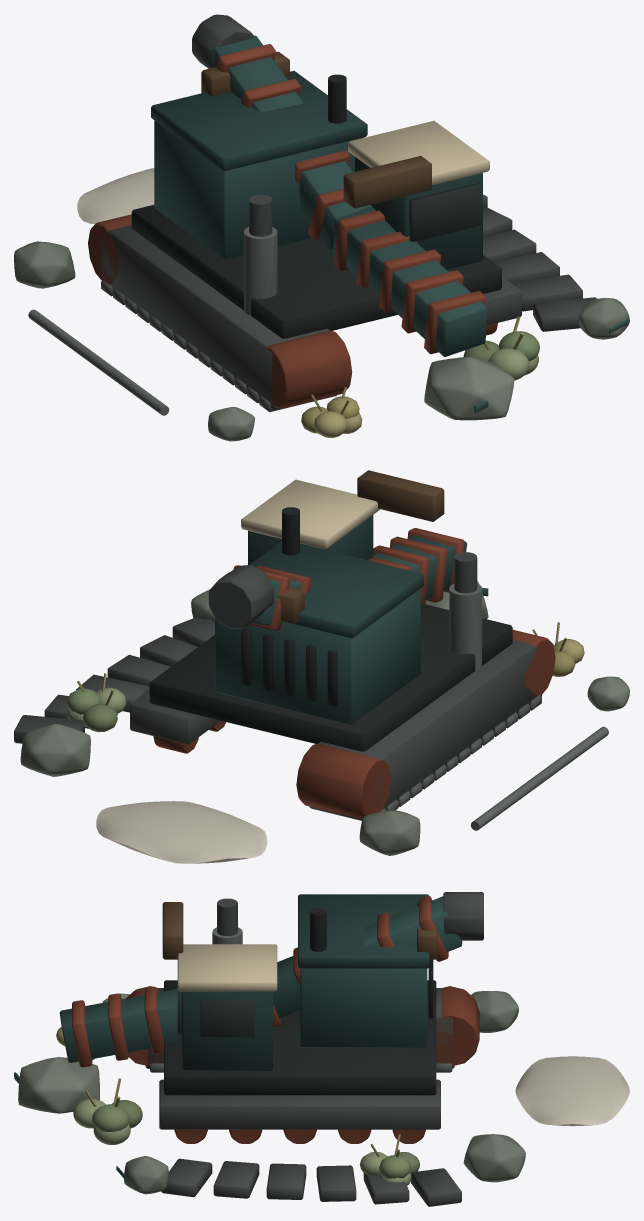
Rendered from drill_rig_wreck_b.glb.
3 views of the same model, one above another, from view 1: azimuth 30°, elevation 25°; view 2: azimuth 150°, elevation 25°; view 3: azimuth 270°, elevation 25° (orthographic). The views are drawn at different scales.
Parts seen in each view (by area): view 1: Surface; view 2: Surface; view 3: Surface.
Part boxes in pixels (<box>): Surface: <box>14,14,629,441</box>; Surface: <box>14,470,629,863</box>; Surface: <box>14,892,629,1206</box>.
Size of the model in its own units: 10.53 by 5.16 by 13.56.
